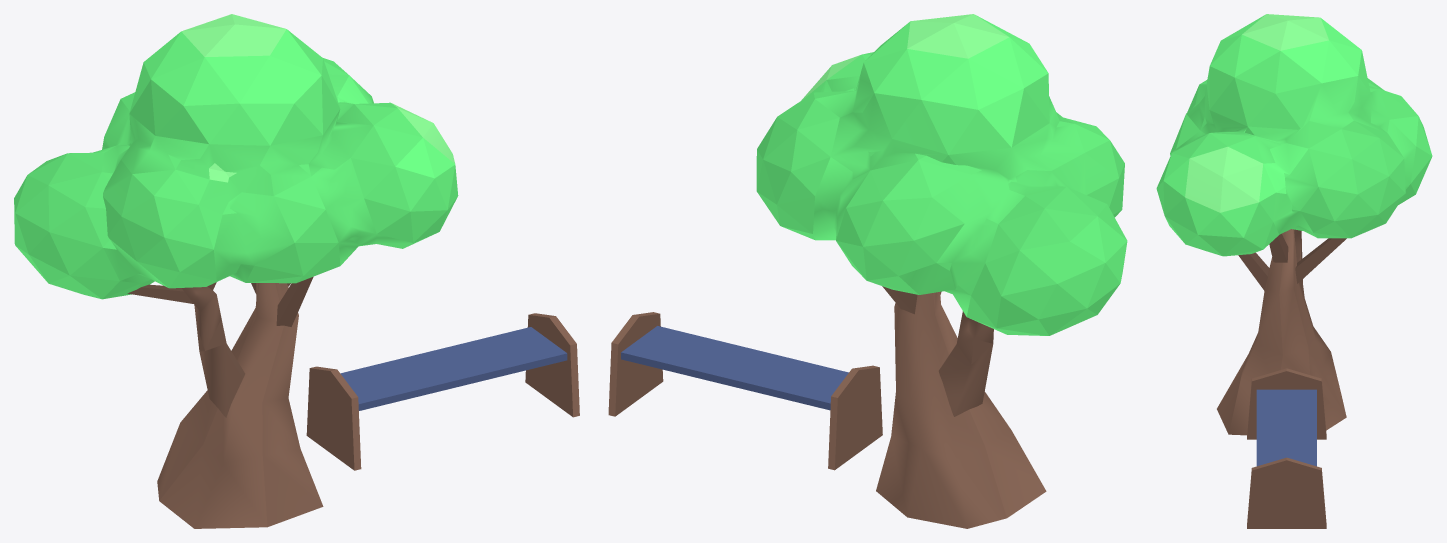
The model's file is loc_1.gltf.
The picture shows the model from 3 angles, left to right: view 1: azimuth 30°, elevation 25°; view 2: azimuth 150°, elevation 25°; view 3: azimuth 270°, elevation 25°; orthographic projection. The views are drawn at different scales.
Visible parts, largest first — view 1: tree, sit; view 2: tree, sit; view 3: tree, sit.
Boxes of the visible parts, bbox=[...] form: tree: bbox=[14, 14, 458, 528]; sit: bbox=[306, 313, 579, 470]; tree: bbox=[756, 14, 1127, 528]; sit: bbox=[608, 312, 882, 470]; tree: bbox=[1156, 14, 1432, 435]; sit: bbox=[1247, 368, 1326, 528].
Size of the model in its own units: 5.65 by 5 by 3.19.
